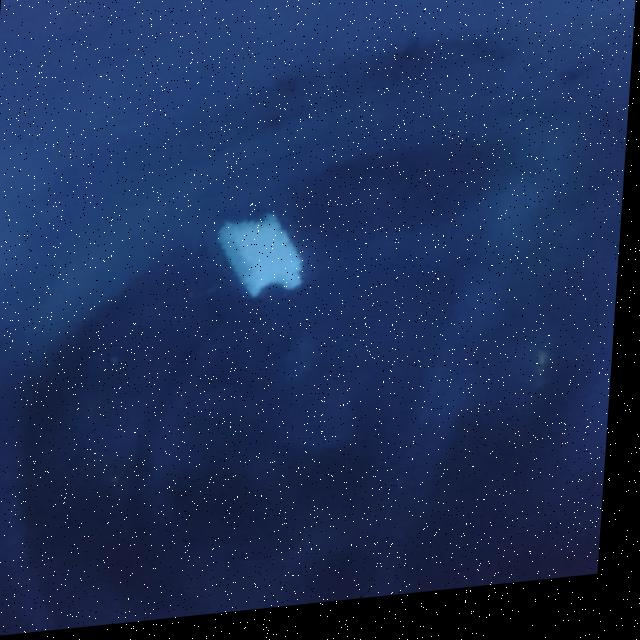thermocoal: (191, 207, 335, 325)
